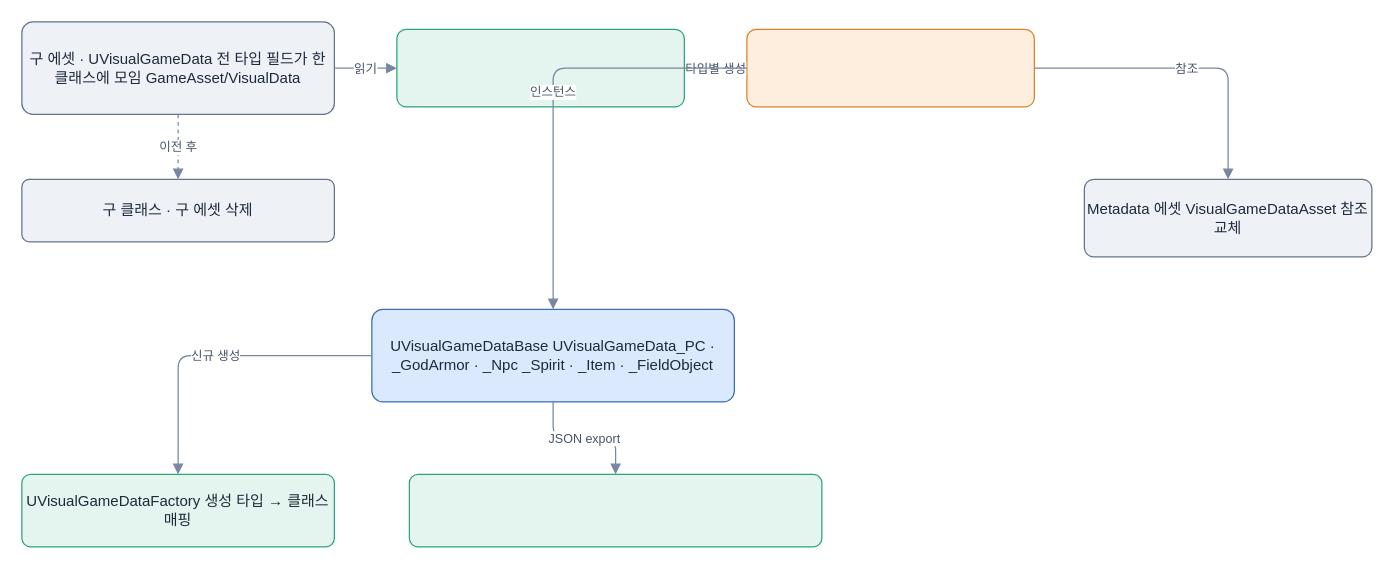
The diagram is 1394 pixels wide and 569 high, and some of its shapes have lost their labels. The centre of each missing label's shape, as x and y in pixels:
"FVisualDataExport UVisualGameDataBase 필터 · 클래스 프로퍼티 export" belongs at [615,510].
"VisualData Migration 에디터 메뉴 → 타입별 변환" belongs at [540,67].
"신 에셋 · 타입별 클래스 GameAsset/VisualDataAsset" belongs at [890,67].
